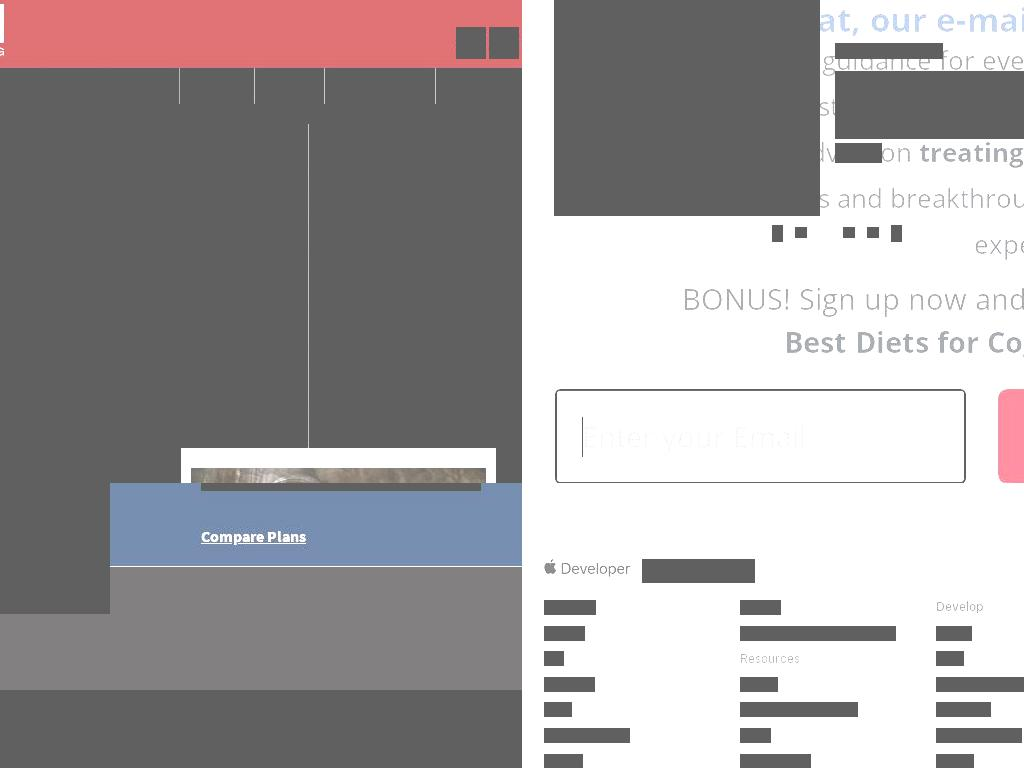button: (554, 0, 820, 216), (90, 135, 306, 243), (340, 135, 522, 197), (965, 309, 1024, 429), (325, 68, 435, 104), (436, 68, 522, 104), (101, 68, 179, 104), (180, 68, 254, 104), (255, 68, 324, 104), (38, 68, 101, 104), (0, 68, 38, 104), (456, 27, 486, 59), (489, 27, 519, 59), (772, 225, 783, 242), (891, 225, 902, 242)
heading: (90, 135, 306, 243), (0, 690, 393, 740), (533, 306, 914, 346), (340, 135, 522, 197), (543, 263, 915, 289), (835, 0, 1024, 42), (393, 690, 522, 740), (965, 429, 1024, 483), (975, 266, 1024, 286), (544, 600, 596, 615), (936, 600, 984, 615), (740, 600, 781, 615)
image: (0, 124, 308, 448), (309, 124, 522, 448), (569, 0, 805, 216), (965, 309, 1024, 430), (795, 227, 807, 238), (819, 227, 831, 238), (843, 227, 855, 238), (867, 227, 879, 238)
link: (740, 626, 896, 641), (201, 526, 306, 546), (740, 702, 858, 717), (835, 43, 943, 59), (936, 677, 1024, 692), (544, 728, 630, 743), (936, 728, 1022, 743), (740, 754, 811, 768), (815, 425, 863, 445), (835, 143, 882, 163), (740, 651, 800, 666), (936, 702, 991, 717), (544, 677, 595, 692), (544, 626, 585, 641), (740, 677, 778, 692), (544, 754, 583, 768), (936, 626, 972, 641), (936, 754, 974, 768), (740, 728, 771, 743), (544, 702, 572, 717), (936, 651, 964, 666), (544, 651, 564, 666)
text: (0, 695, 522, 768), (533, 353, 916, 445), (835, 71, 1024, 139), (0, 104, 522, 124), (642, 559, 755, 583), (111, 79, 155, 94)
